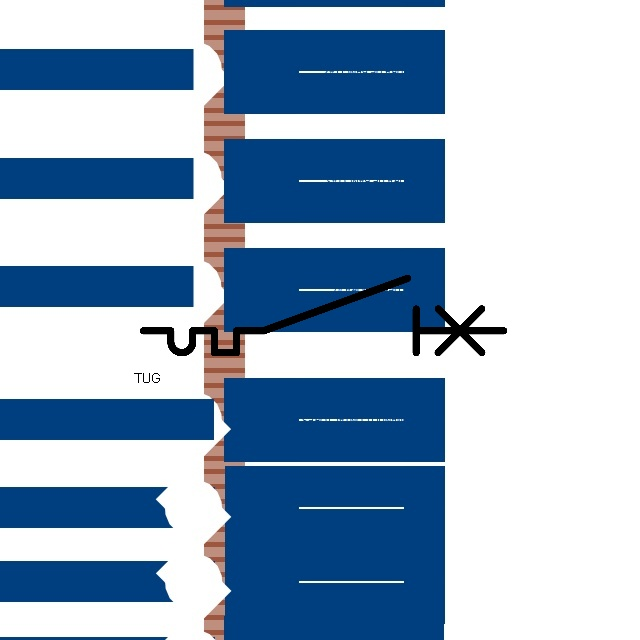interruptor_termomagnetico: (134, 269, 512, 362)
